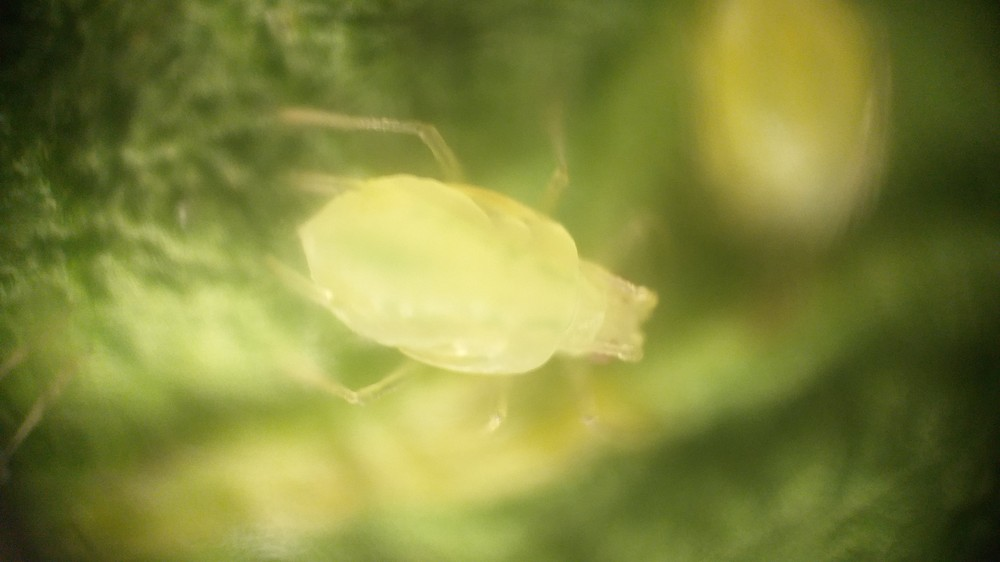Pulgon: (211, 75, 728, 488)
